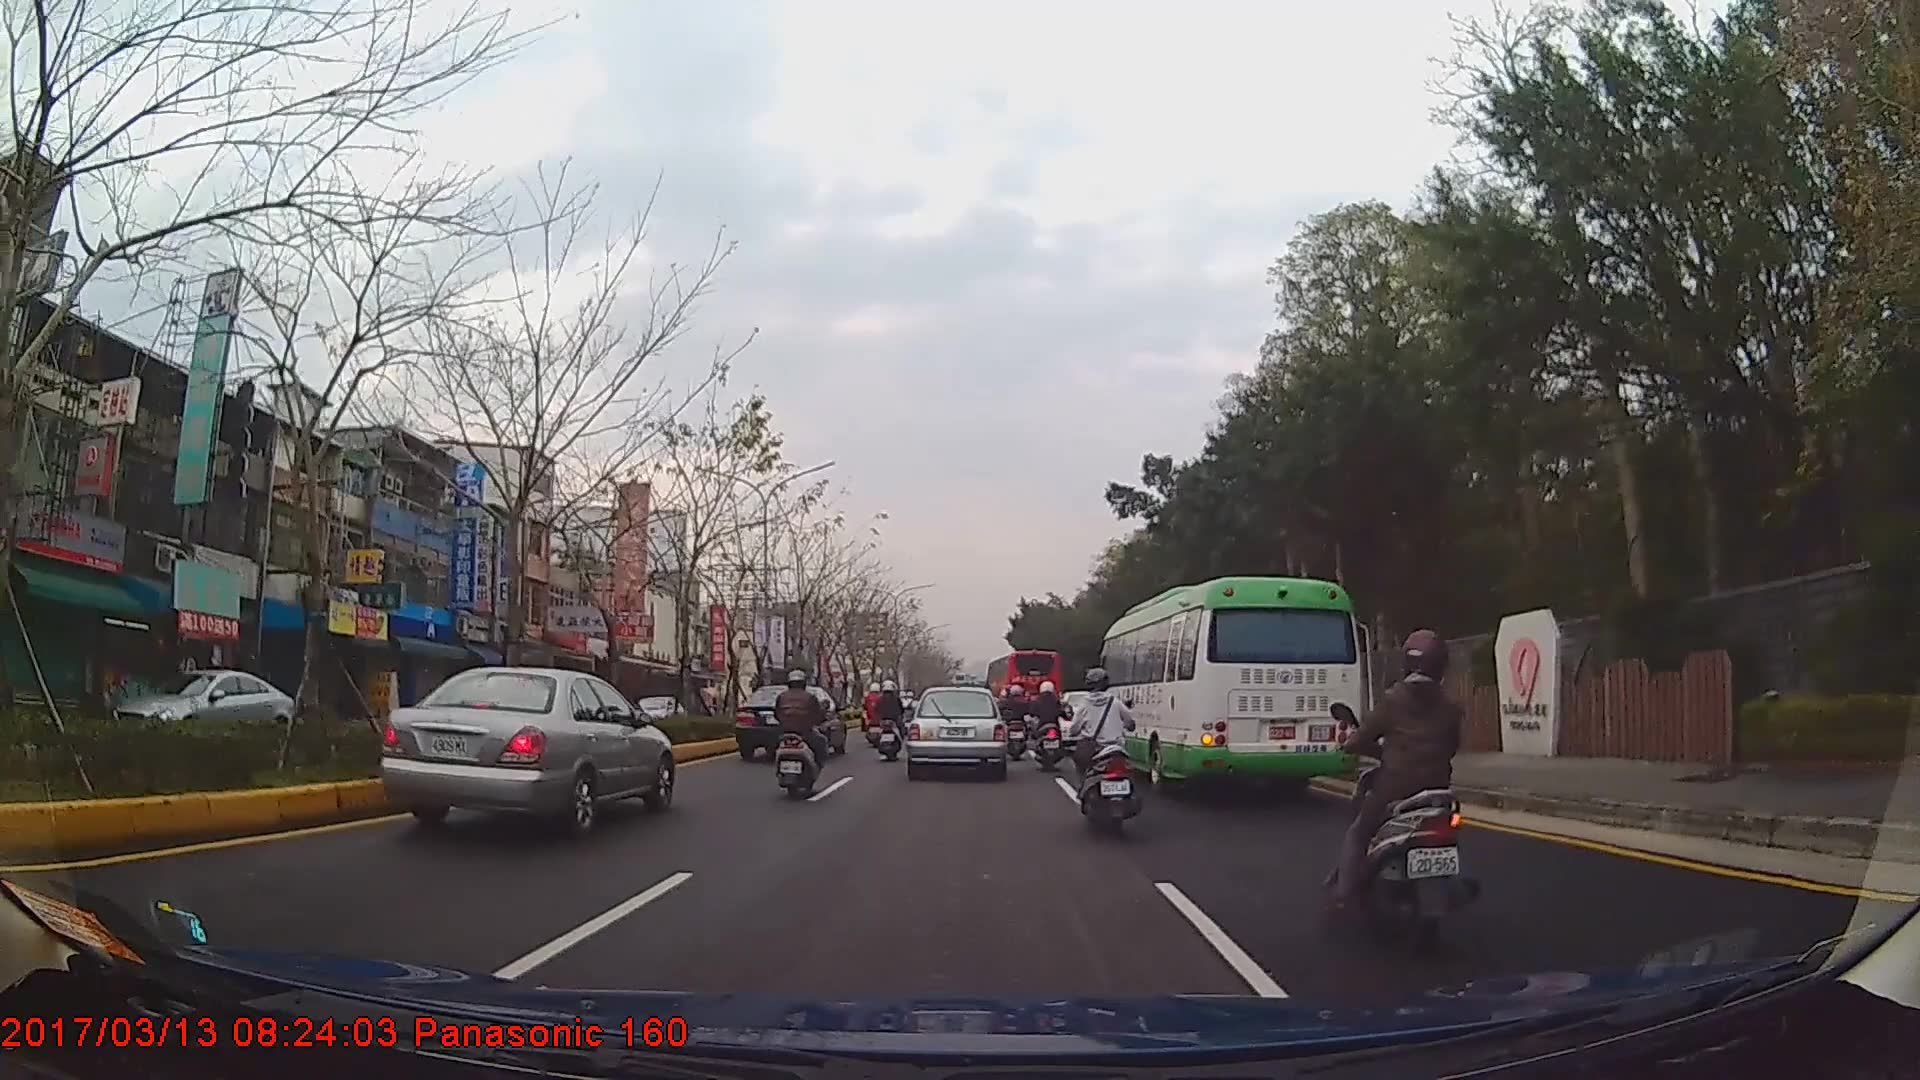rider: (1328, 625, 1475, 942), (1067, 665, 1138, 838), (771, 671, 833, 800), (1028, 679, 1066, 769), (872, 680, 907, 761), (997, 682, 1031, 760), (863, 684, 885, 746), (899, 692, 920, 741)
vehicle: (1091, 574, 1365, 791), (375, 661, 674, 837), (104, 662, 303, 756), (905, 685, 1008, 780), (733, 682, 847, 760), (985, 647, 1060, 734)
